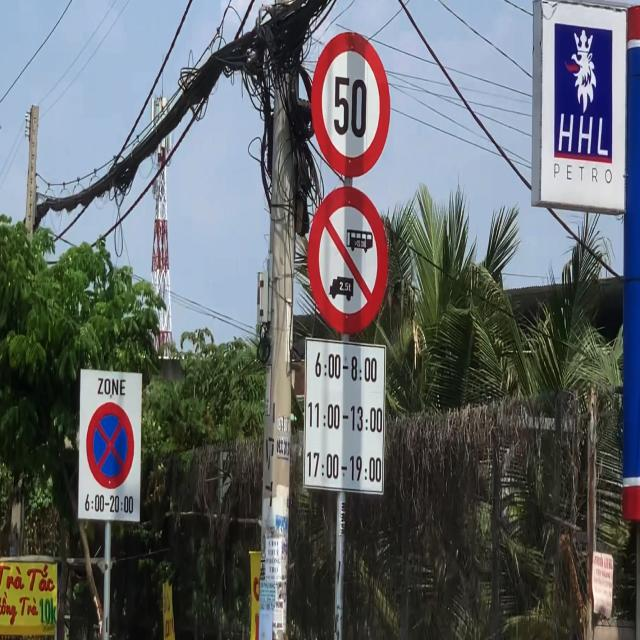Cam con lai: (307, 187, 388, 336)
Cam dung va do: (86, 402, 134, 489)
Toc do toi da: (311, 31, 391, 178)
